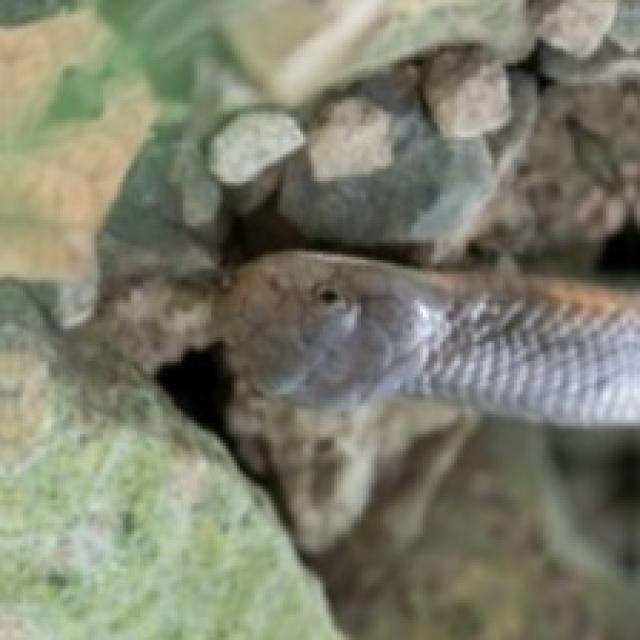king cobra: (223, 251, 637, 423)
